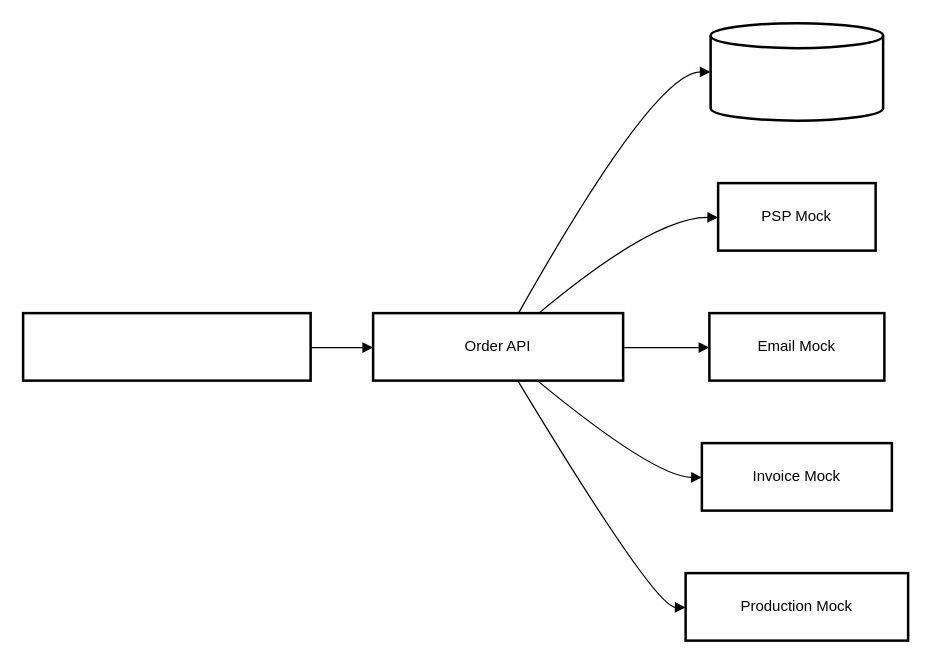
Some shapes in this 930 by 663 pixel diagram are drawn without their labels. The shapes that lost their labels are listed below. From the top down, each one's box as (x1, y1, x2, y2) in pixels, then its label:
(709, 21, 884, 121): Order database
(21, 311, 311, 381): Customer / Art Director
